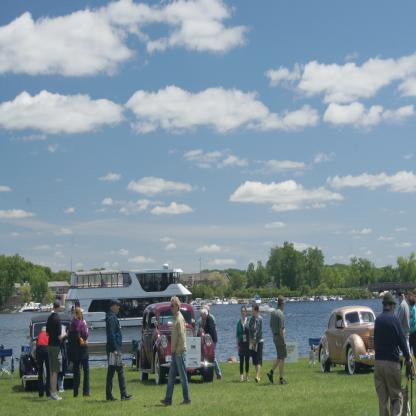Car: (138, 304, 216, 384), (19, 316, 83, 390), (324, 312, 372, 380)
